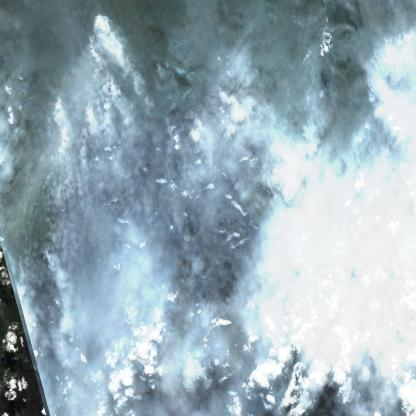fire: (51, 90, 64, 113), (84, 94, 93, 112), (108, 68, 116, 87)
